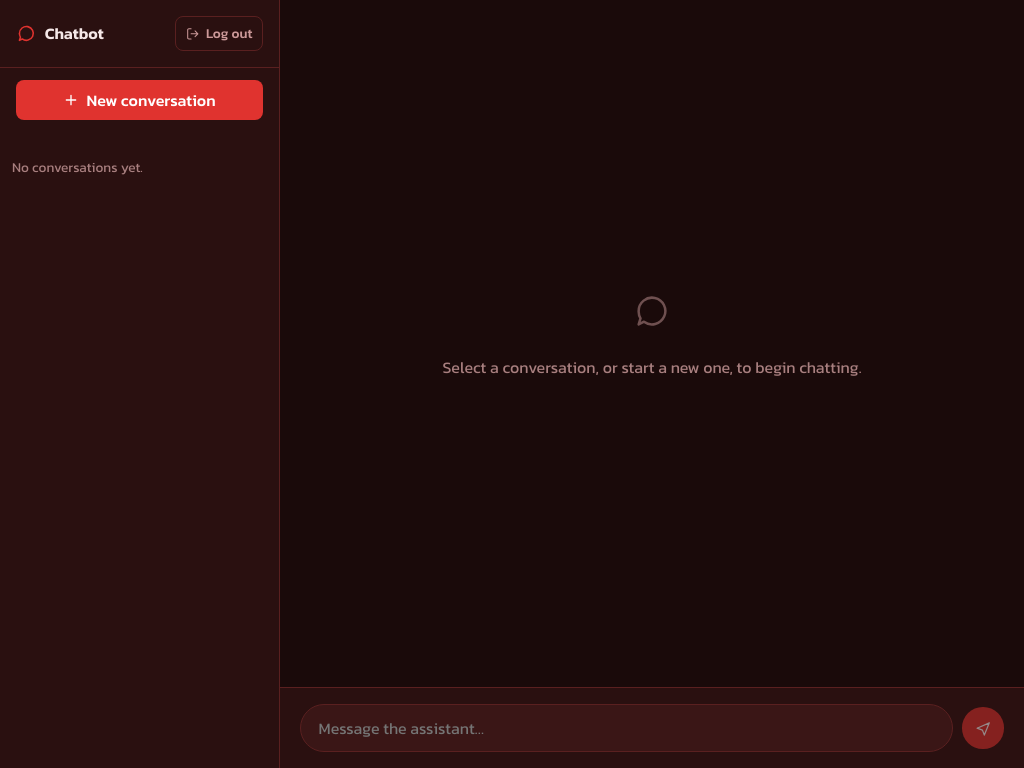
Scenario: starting a new conversation adds it to the sidebar and selects it
The width and height of the screenshot is (1024, 768).
Click the button "New conversation": point(140, 100) [16,80,263,120]
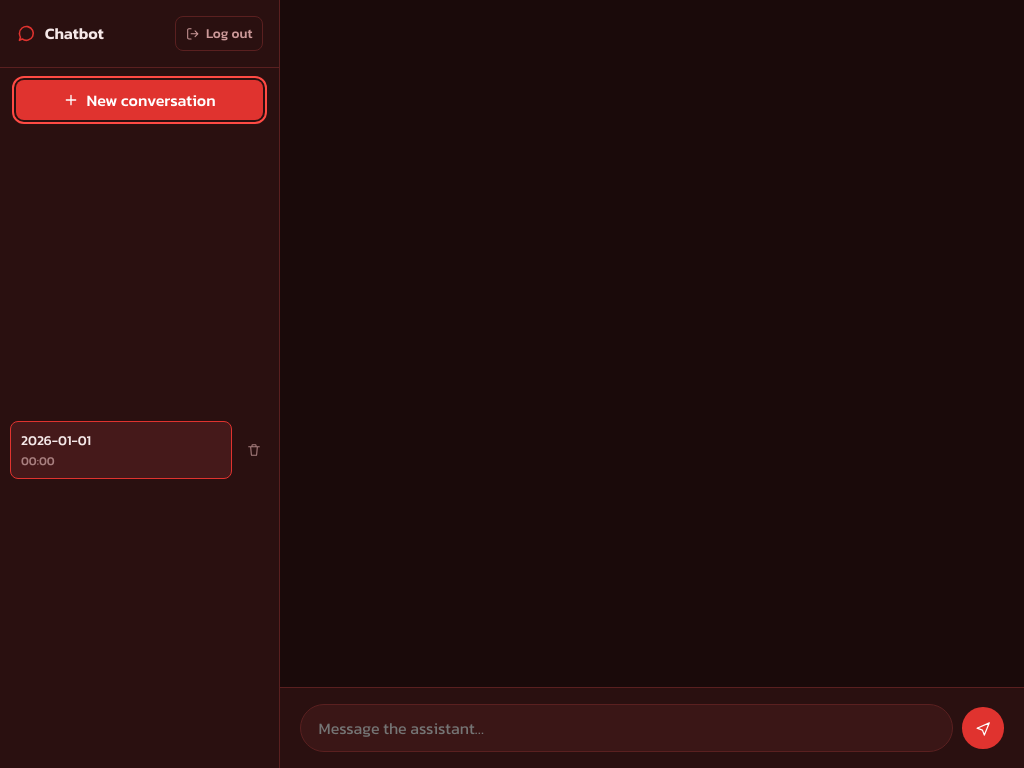
Expected: the button "2026-01-01 00:00" is shown, [10,421,232,479]
